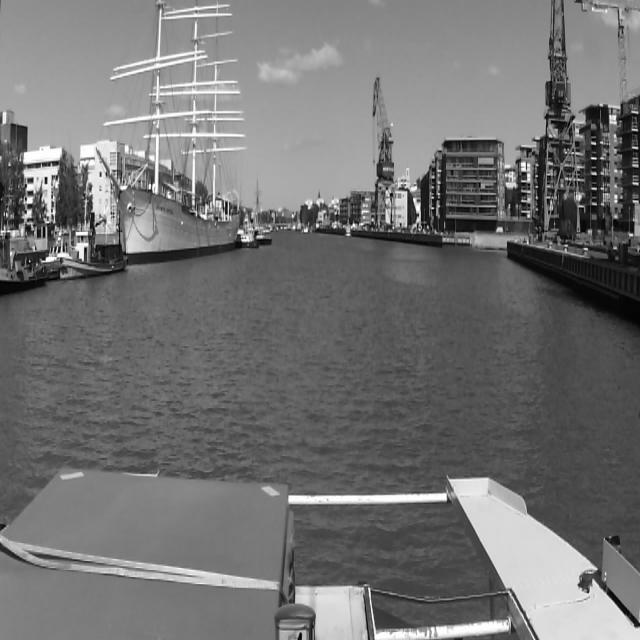ship: (91, 5, 249, 268), (56, 175, 132, 279), (0, 201, 50, 294), (238, 232, 260, 252), (253, 231, 274, 246)
